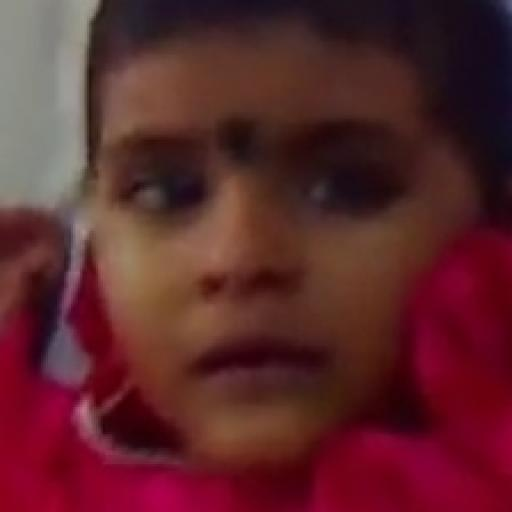Autism: (59, 15, 512, 500)
